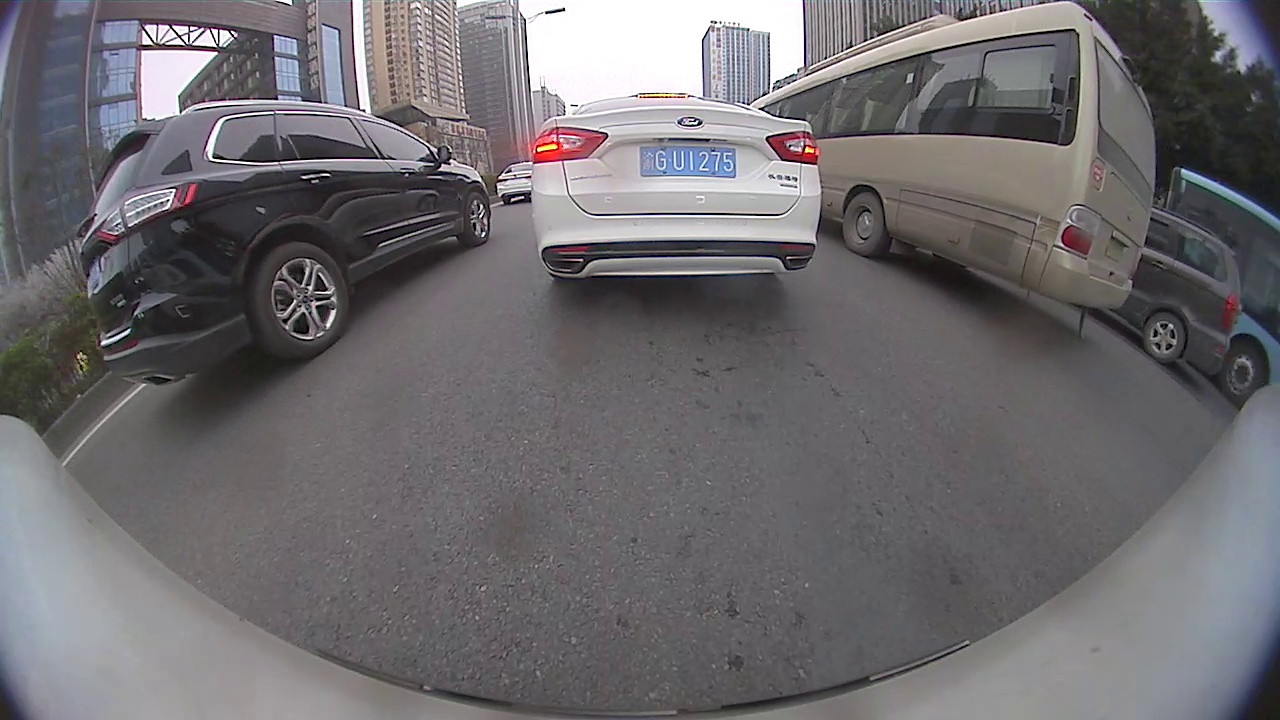bus: (748, 0, 1158, 312), (1164, 166, 1278, 400)
car: (77, 98, 491, 386), (531, 88, 822, 282), (1122, 204, 1243, 377), (496, 158, 534, 201)
front: (1219, 341, 1269, 400), (456, 189, 492, 248)
rear: (249, 238, 351, 360), (841, 189, 891, 258), (1144, 312, 1186, 363)
